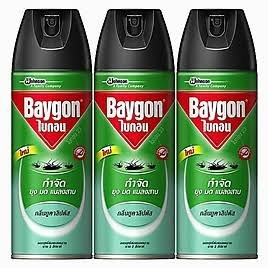Insecticide: (8, 7, 94, 263), (174, 7, 260, 262), (93, 8, 176, 262)
